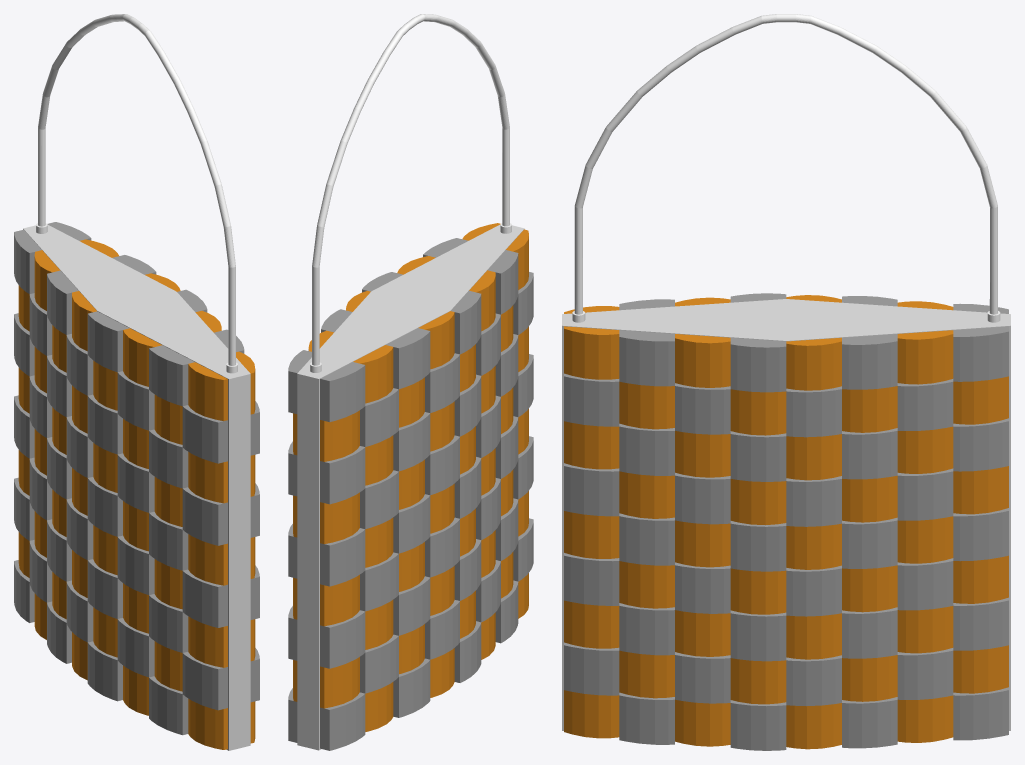
File: tas_6.fbx
3 views of the same model, side by side, from view 1: azimuth 30°, elevation 25°; view 2: azimuth 150°, elevation 25°; view 3: azimuth 270°, elevation 25° (orthographic). The views are drawn at different scales.
Visible parts, largest first — view 1: Cube, Cube.001, Cylinder; view 2: Cube, Cube.001, Cylinder; view 3: Cube, Cube.001, Cylinder.
Part boxes in pixels (x1,y1,x2,y2): Cube: [14, 222, 259, 749]; Cube.001: [23, 225, 250, 750]; Cylinder: [36, 14, 237, 373]; Cube: [288, 223, 533, 750]; Cube.001: [297, 225, 524, 750]; Cylinder: [310, 14, 511, 372]; Cube: [564, 293, 1008, 750]; Cube.001: [562, 299, 1010, 730]; Cylinder: [572, 14, 1000, 322].
Bounding box in the file's own units: 57.75 × 352 × 202.
